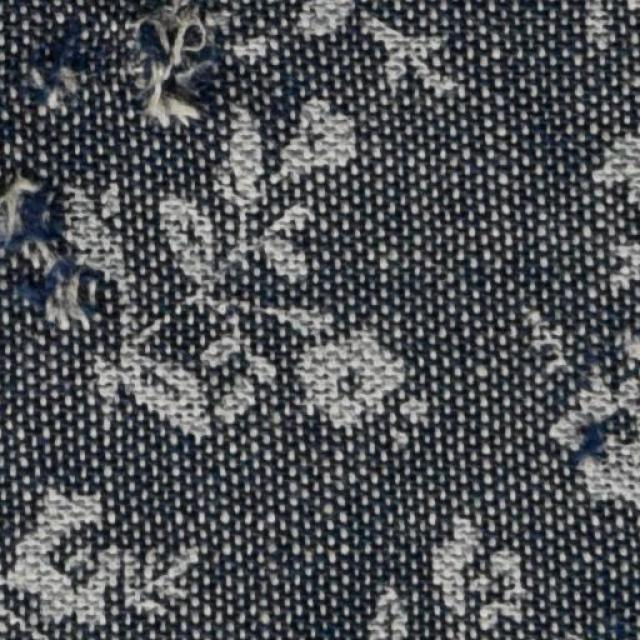Snag: (1, 164, 120, 330), (122, 20, 216, 146), (556, 400, 631, 480), (27, 50, 91, 114)
